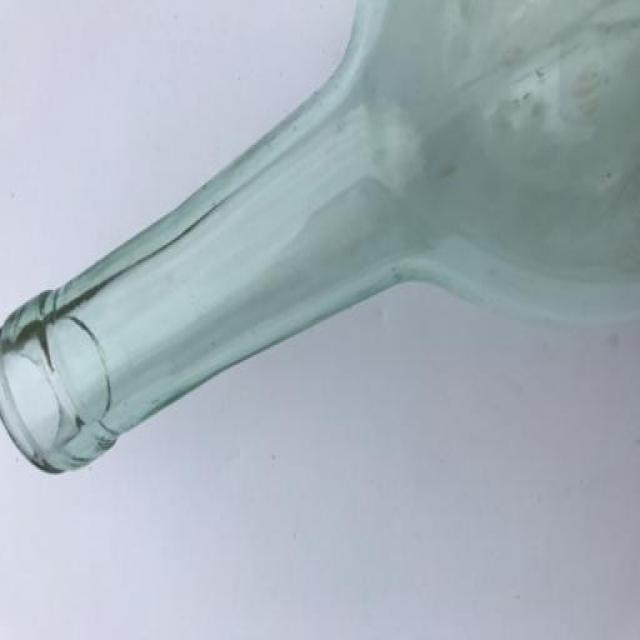Waste: (1, 2, 640, 472)
